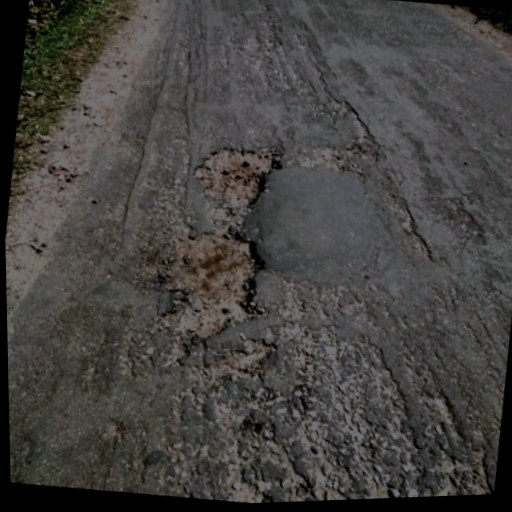pothole: (143, 220, 275, 355), (185, 134, 289, 227)
